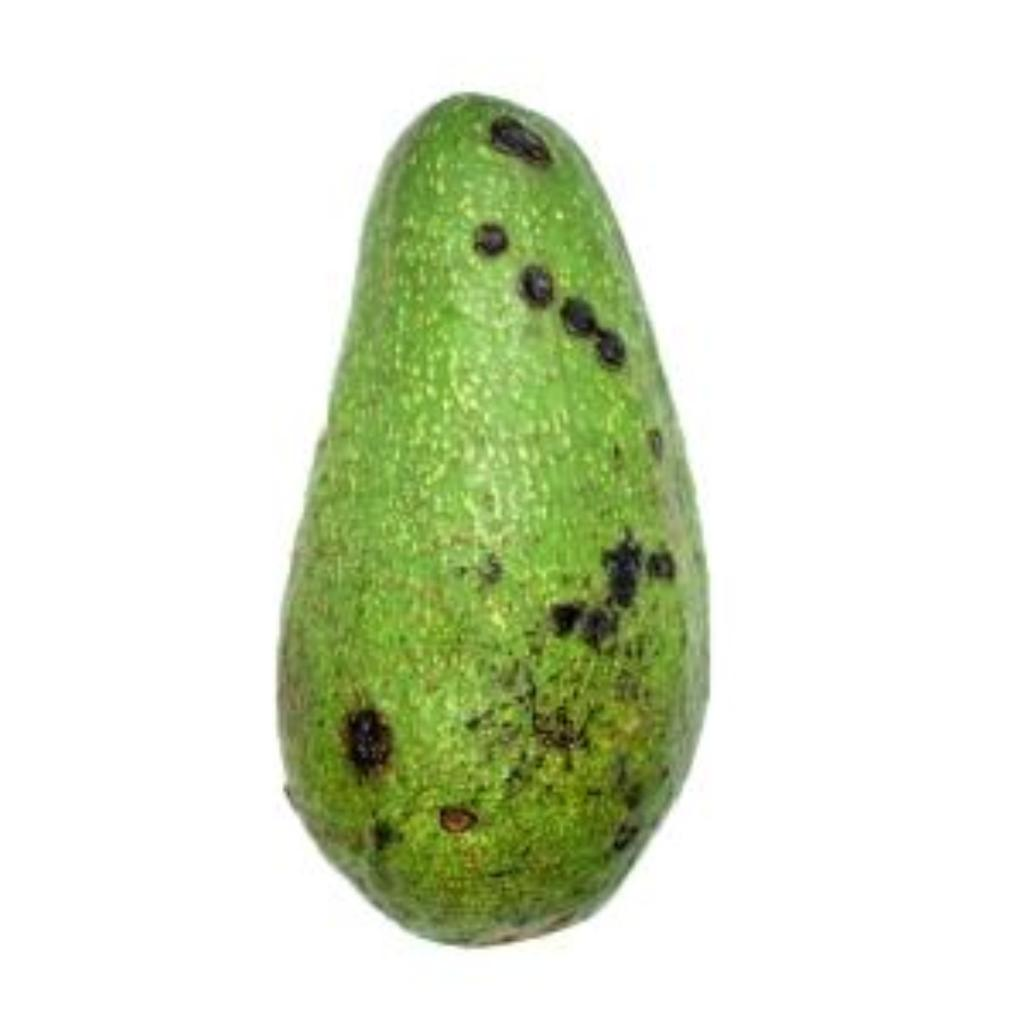cercospora: (267, 68, 718, 952)
